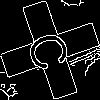C: (25, 25, 81, 75)
